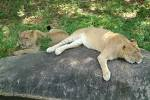lion: (48, 22, 144, 85)
